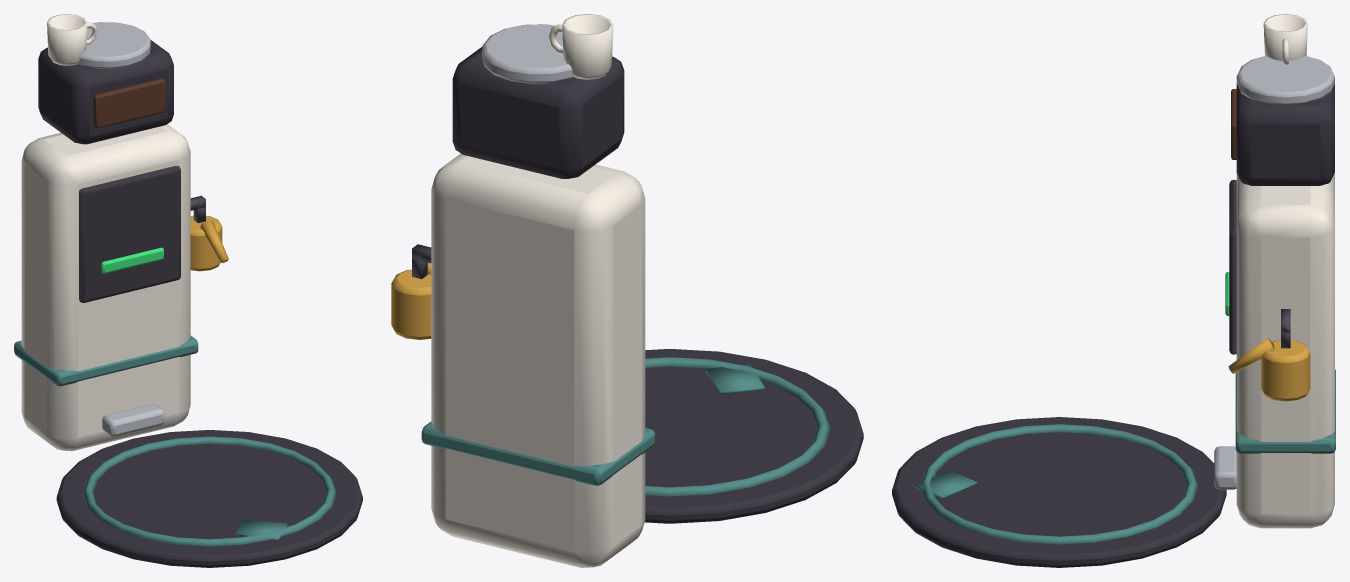
The model's file is office_robot_l2.glb.
3 views of the same model, side by side, from view 1: azimuth 30°, elevation 25°; view 2: azimuth 150°, elevation 25°; view 3: azimuth 270°, elevation 25° (orthographic). The views are drawn at different scales.
Visible parts, largest first — view 1: office_robot_l2, office_robot_charge_led; view 2: office_robot_l2; view 3: office_robot_l2.
Boxes of the visible parts, bbox=[...] form: office_robot_l2: bbox=[14, 14, 362, 567]; office_robot_charge_led: bbox=[101, 247, 163, 273]; office_robot_l2: bbox=[391, 14, 863, 567]; office_robot_l2: bbox=[892, 14, 1335, 567].
Bounding box in the file's own units: 0.68 × 1.02 × 0.902.
